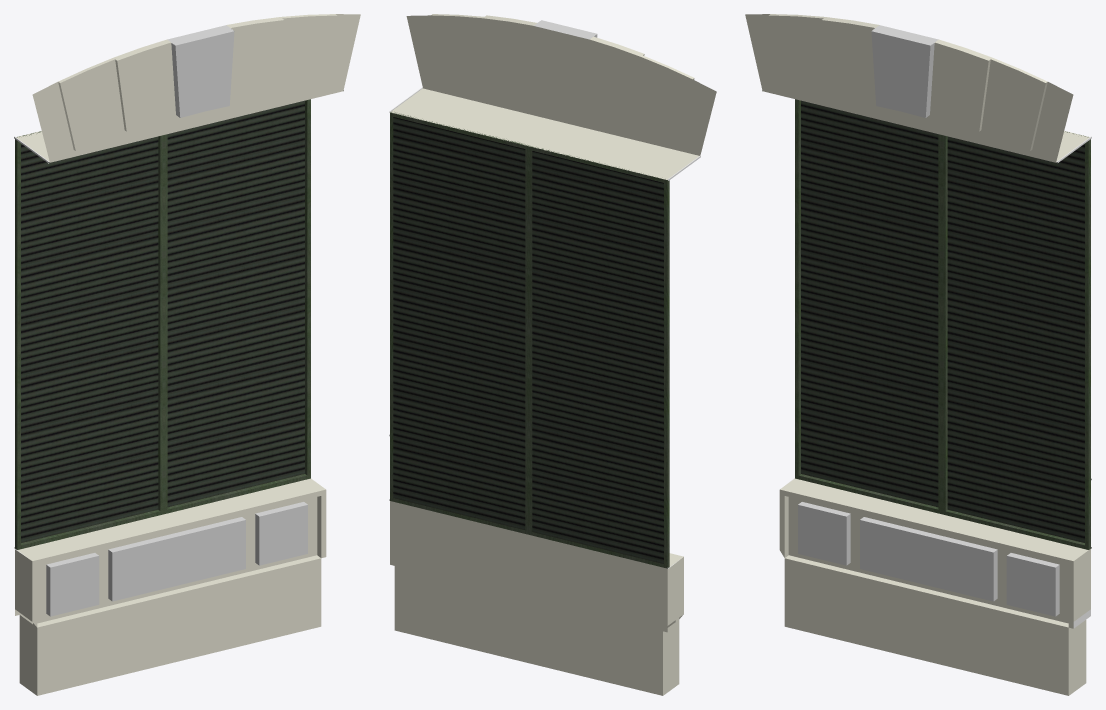
The model's file is window_corner_f1_3.glb.
The picture shows the model from 3 angles, left to right: view 1: azimuth 30°, elevation 25°; view 2: azimuth 150°, elevation 25°; view 3: azimuth 330°, elevation 25°; orthographic projection. The views are drawn at different scales.
Visible parts, largest first — view 1: _C-Component#3 (Loose Mesh).009; view 2: _C-Component#3 (Loose Mesh).009; view 3: _C-Component#3 (Loose Mesh).009.
Part boxes in pixels (x1=…): _C-Component#3 (Loose Mesh).009: x1=14, y1=14, x2=360, y2=695; _C-Component#3 (Loose Mesh).009: x1=389, y1=14, x2=716, y2=695; _C-Component#3 (Loose Mesh).009: x1=745, y1=14, x2=1091, y2=695.
Bounding box in the file's own units: 2.5 × 4.68 × 0.57.
Materials: 5 (2 with a texture image).
